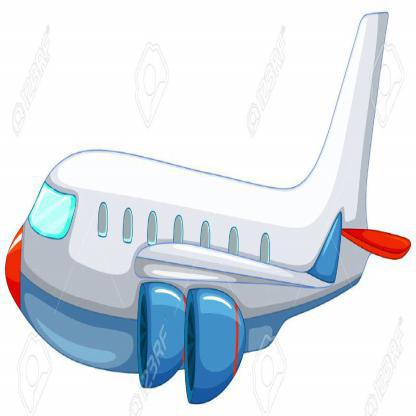CIV_Plane: (2, 7, 413, 403)
